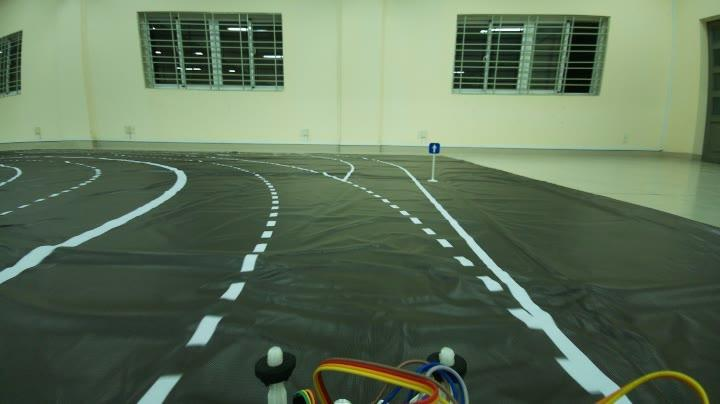onewayroad: (424, 139, 447, 156)
